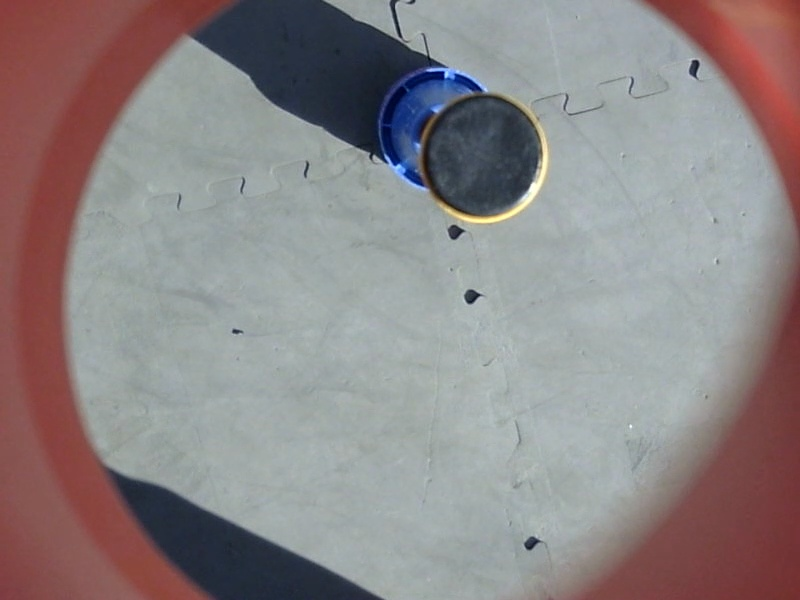tip: (411, 84, 558, 231)
